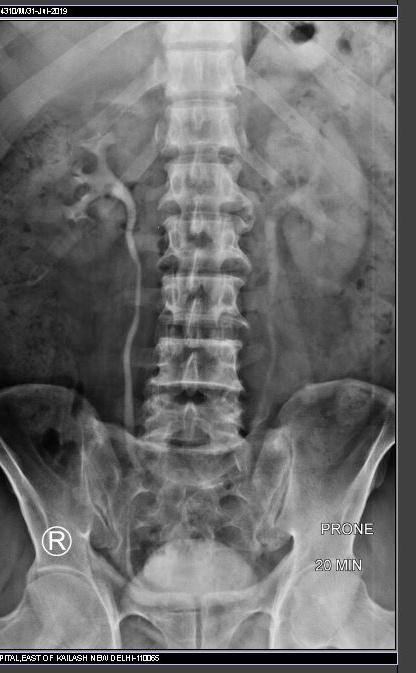bladder: (113, 532, 277, 646)
left kidney: (273, 99, 393, 293)
right kidney: (24, 94, 152, 264)
vertebrae: (170, 153, 264, 212)
